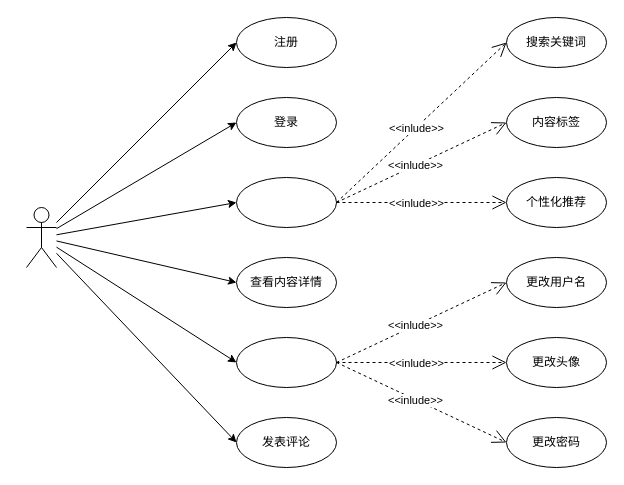
This 624x485 diagram has some shape labels left out. Here are the shapes that lost their labels. From the top down, the box of each, then its label:
(236, 176, 336, 228): 搜索内容
(26, 206, 56, 268): 普通用户
(236, 336, 336, 388): 更改个人信息
